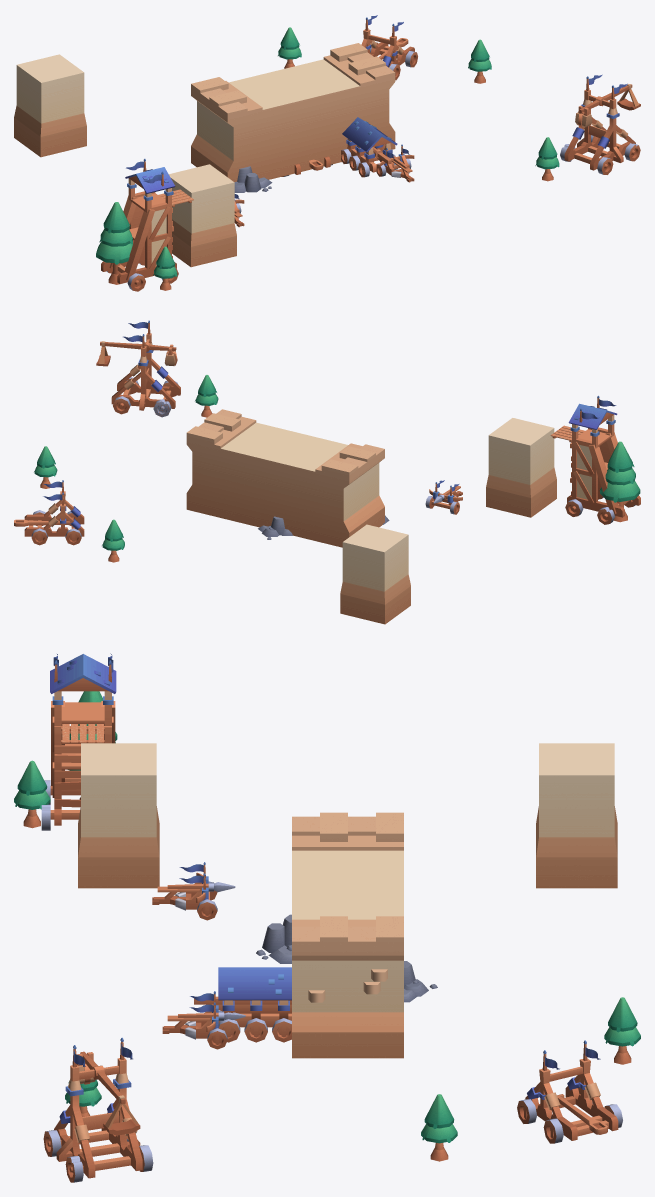
The model's file is animation.glb.
3 renders of one model, top to bottom at view 1: azimuth 30°, elevation 25°; view 2: azimuth 150°, elevation 25°; view 3: azimuth 270°, elevation 25°, orthographic. The views are drawn at different scales.
Visible parts, largest first — view 1: wall, tower-square-base.001, tower-square-base, siege-tower, siege-trebuchet, tree-large, siege-ram, siege-catapult, rocks-large, tree-small.003, tree-small, tree-small.002 (+2 smaller); view 2: wall, tower-square-base.001, tower-square-base, siege-tower, siege-trebuchet, tree-large, siege-catapult, tree-small.001, tree-small.003, tree-small.002, siege-ballista; view 3: wall, tower-square-base.001, tower-square-base, siege-tower, siege-trebuchet, siege-ram, siege-catapult, tree-small.001, tree-small.002, tree-small, siege-ballista, siege-ballista.001 (+1 smaller).
Part boxes in pixels (x1,y1,x2,y2): wall: [191, 43, 395, 182]; tower-square-base.001: [14, 54, 86, 157]; tower-square-base: [169, 164, 236, 267]; siege-tower: [101, 158, 193, 283]; siege-trebuchet: [564, 74, 635, 170]; tree-large: [96, 202, 132, 284]; siege-ram: [342, 117, 397, 172]; siege-catapult: [361, 15, 414, 67]; rocks-large: [234, 166, 272, 192]; tree-small.003: [535, 137, 559, 181]; tree-small: [153, 246, 177, 290]; tree-small.002: [468, 39, 491, 83]; wall: [186, 409, 384, 547]; tower-square-base.001: [340, 524, 410, 624]; tower-square-base: [486, 418, 556, 517]; siege-tower: [550, 395, 640, 517]; siege-trebuchet: [111, 320, 180, 410]; tree-large: [599, 441, 640, 522]; siege-catapult: [24, 480, 84, 536]; tree-small.001: [102, 519, 124, 562]; tree-small.003: [195, 375, 218, 417]; tree-small.002: [34, 446, 57, 488]; siege-ballista: [429, 480, 462, 509]; wall: [292, 812, 403, 1058]; tower-square-base.001: [536, 743, 617, 888]; tower-square-base: [78, 743, 159, 888]; siege-tower: [50, 653, 116, 825]; siege-trebuchet: [54, 1037, 142, 1178]; siege-ram: [216, 967, 291, 1027]; siege-catapult: [525, 1040, 618, 1140]; tree-small.001: [604, 997, 640, 1064]; tree-small.002: [421, 1094, 457, 1161]; tree-small: [14, 760, 50, 828]; siege-ballista: [152, 862, 209, 910]; siege-ballista.001: [162, 991, 218, 1039].
Size of the model in its own units: 18.95 by 3.83 by 12.32.
19 materials, 19 textured.
